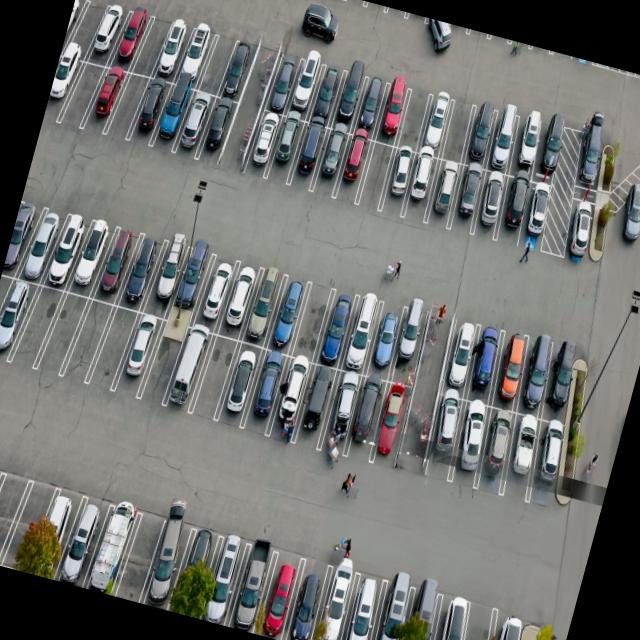car: (84, 500, 144, 596), (518, 417, 575, 512), (169, 526, 227, 619), (52, 492, 108, 586), (442, 396, 497, 490), (496, 410, 550, 505), (140, 516, 193, 610), (164, 322, 218, 414), (215, 342, 268, 434), (112, 307, 165, 398), (290, 362, 342, 454), (253, 550, 306, 640), (228, 542, 280, 633), (316, 367, 368, 457), (199, 537, 251, 627), (264, 356, 314, 448), (470, 407, 520, 499), (241, 348, 292, 438), (366, 379, 418, 467), (420, 394, 470, 485), (31, 484, 78, 580), (338, 374, 388, 464), (279, 556, 332, 640), (309, 563, 364, 640), (139, 238, 189, 322), (168, 246, 217, 330), (512, 333, 561, 417), (116, 233, 166, 315), (264, 274, 314, 356), (190, 255, 240, 336), (64, 220, 114, 300), (434, 318, 483, 399), (336, 567, 390, 640), (385, 308, 433, 390), (484, 330, 532, 412), (89, 228, 138, 308), (214, 262, 262, 343), (240, 270, 287, 352), (537, 344, 584, 426), (16, 205, 64, 285), (314, 287, 361, 368), (366, 570, 420, 640), (337, 296, 384, 376), (43, 216, 91, 294), (464, 323, 510, 404), (360, 302, 406, 381), (0, 276, 39, 368), (388, 580, 447, 640), (444, 162, 490, 238), (150, 83, 196, 159), (492, 172, 538, 248), (464, 170, 510, 246), (84, 65, 130, 140), (558, 193, 604, 268), (172, 86, 216, 164), (306, 126, 352, 200), (511, 182, 557, 256), (128, 76, 172, 152), (423, 158, 467, 234), (42, 50, 86, 126), (396, 152, 441, 226), (288, 120, 332, 195), (217, 100, 261, 175), (330, 132, 374, 206), (376, 148, 420, 222), (263, 116, 307, 190), (242, 108, 286, 182), (194, 92, 238, 166), (0, 204, 40, 284), (480, 105, 522, 177), (423, 591, 482, 640), (172, 27, 215, 94), (506, 109, 546, 181), (530, 111, 570, 182), (567, 123, 610, 189), (459, 101, 500, 170), (110, 8, 152, 74), (372, 83, 413, 150), (306, 62, 346, 130), (328, 67, 368, 135), (284, 56, 324, 123), (87, 3, 128, 68), (262, 50, 302, 116), (241, 44, 281, 110), (217, 38, 257, 103), (349, 76, 388, 142), (417, 94, 455, 160), (152, 20, 191, 84), (61, 0, 86, 54), (483, 619, 534, 640)
free: (112, 510, 167, 603), (38, 286, 92, 378), (90, 300, 143, 392), (60, 293, 114, 383), (14, 280, 68, 370), (138, 316, 190, 408), (188, 330, 240, 419), (5, 480, 53, 570), (288, 284, 332, 363), (104, 69, 150, 144), (59, 56, 104, 132), (354, 142, 396, 216), (438, 98, 478, 166), (394, 88, 434, 154), (197, 32, 234, 98), (133, 16, 171, 78), (67, 0, 105, 58), (0, 472, 22, 557), (0, 271, 15, 358)
